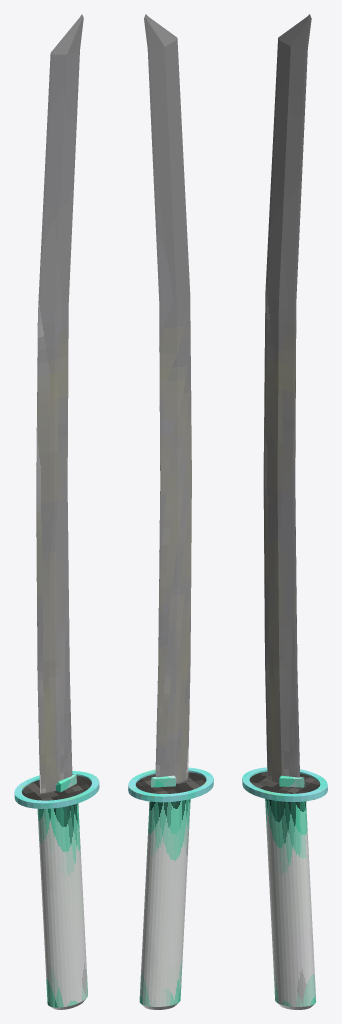
The model's file is katanadone.fbx.
3 renders of one model, left to right at view 1: azimuth 30°, elevation 25°; view 2: azimuth 210°, elevation 25°; view 3: azimuth 330°, elevation 25°, orthographic.
Parts seen in each view (by area): view 1: Cube; view 2: Cube; view 3: Cube.
Part boxes in pixels (bbox=[...]): Cube: bbox=[14, 14, 99, 1009]; Cube: bbox=[128, 14, 213, 1009]; Cube: bbox=[242, 14, 327, 1009].
Size of the model in its own units: 397 by 4784 by 290.
Materials: 1 (1 with a texture image).
